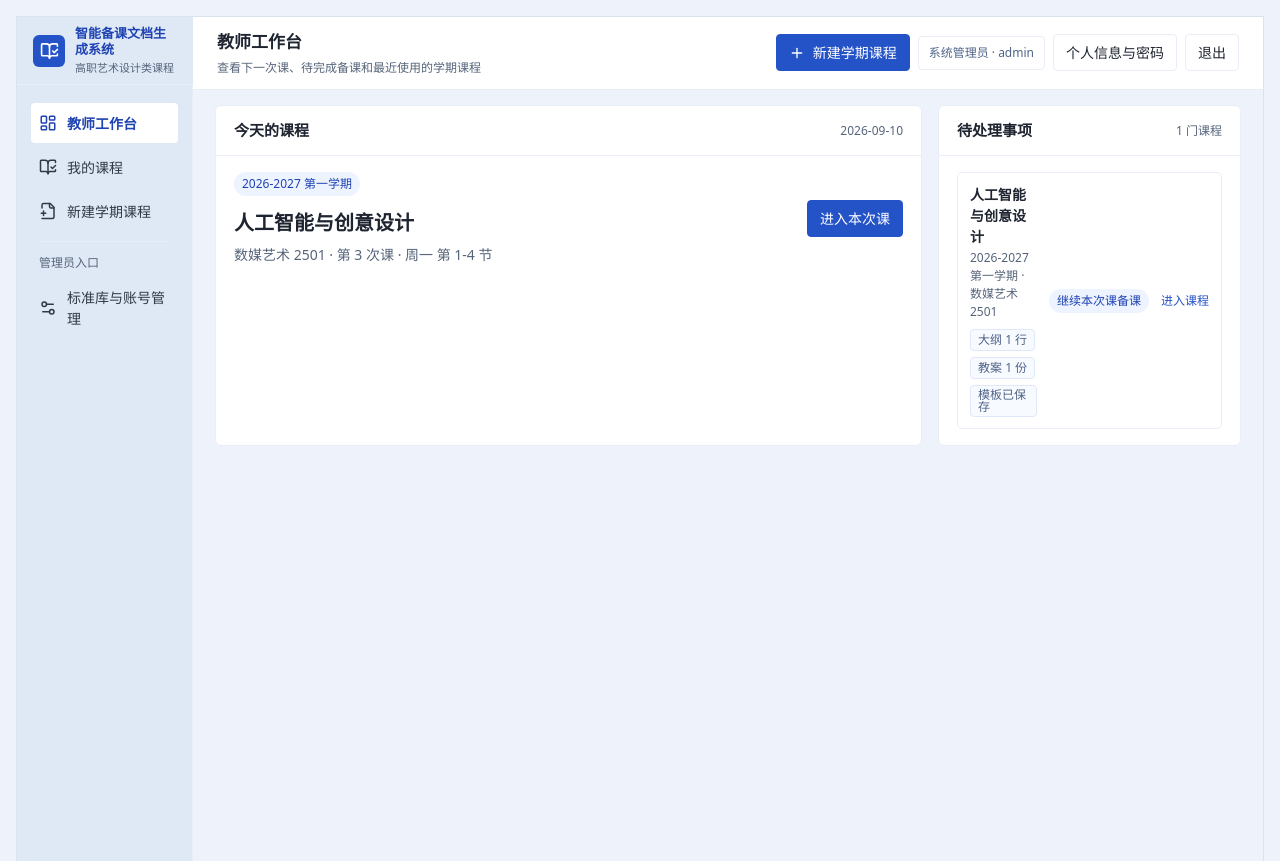
Test case: App › opens a dedicated course materials workspace
The width and height of the screenshot is (1280, 861).
Click the button "我的课程": (104, 167) top-left (31, 147), bottom-right (178, 187)
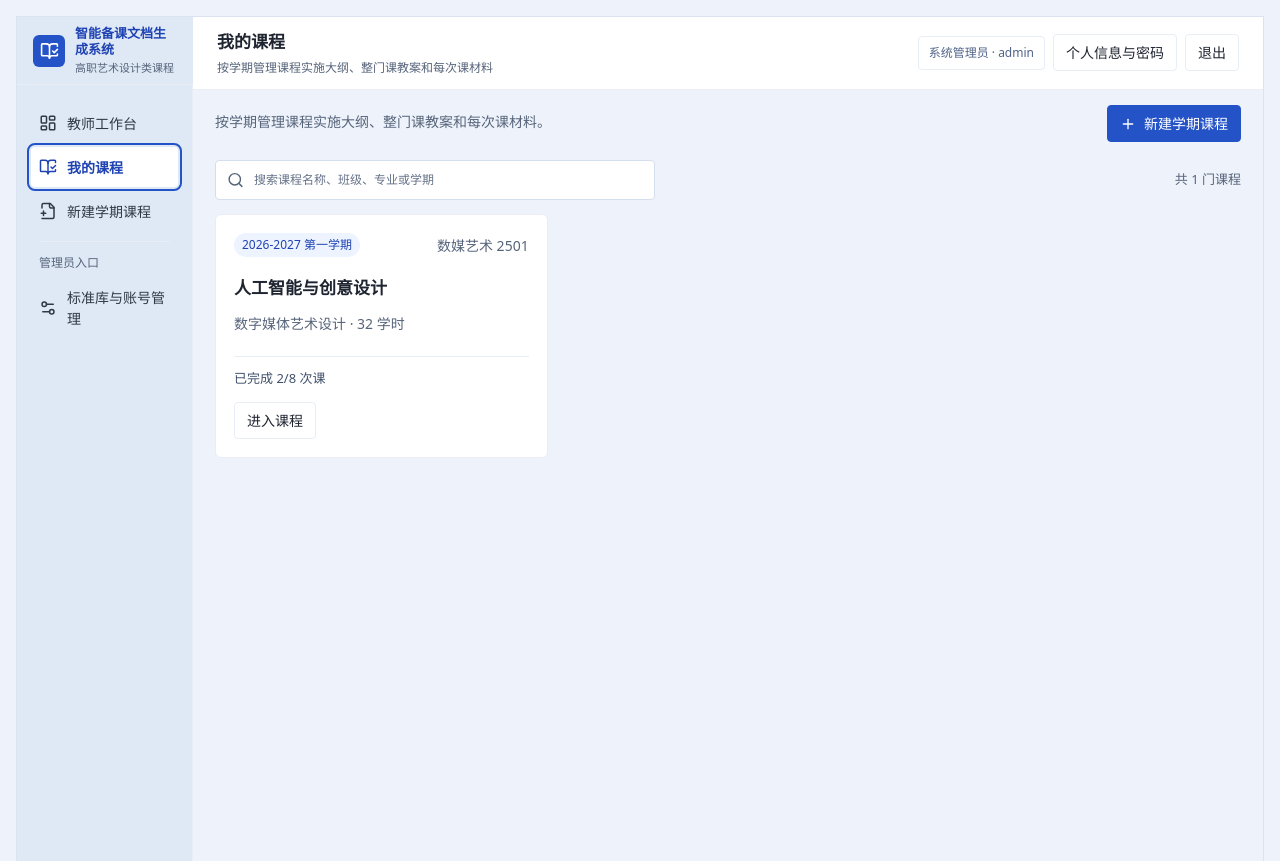
Click the button "进入课程": (275, 420) top-left (234, 402), bottom-right (316, 439)
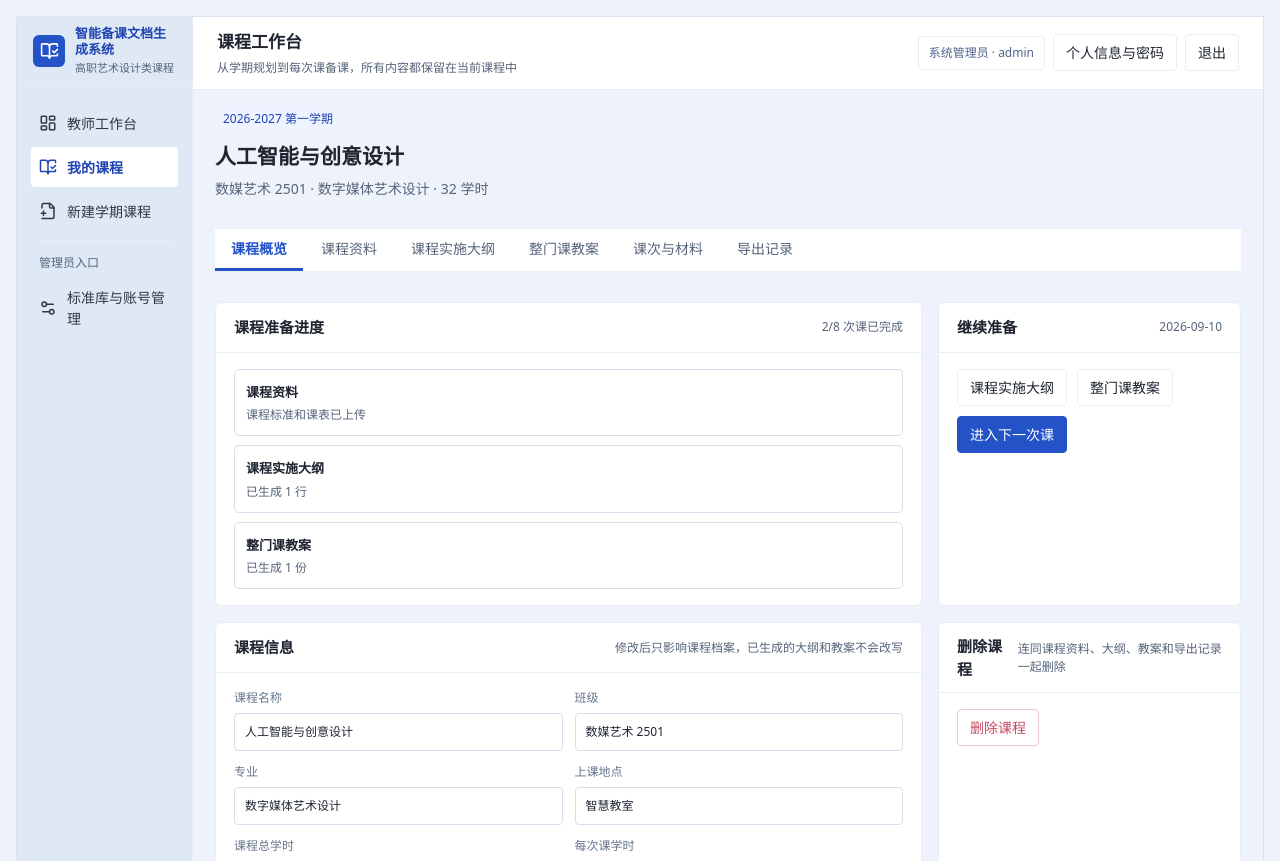
Click the tab "课程资料": (349, 250) top-left (305, 228), bottom-right (393, 270)
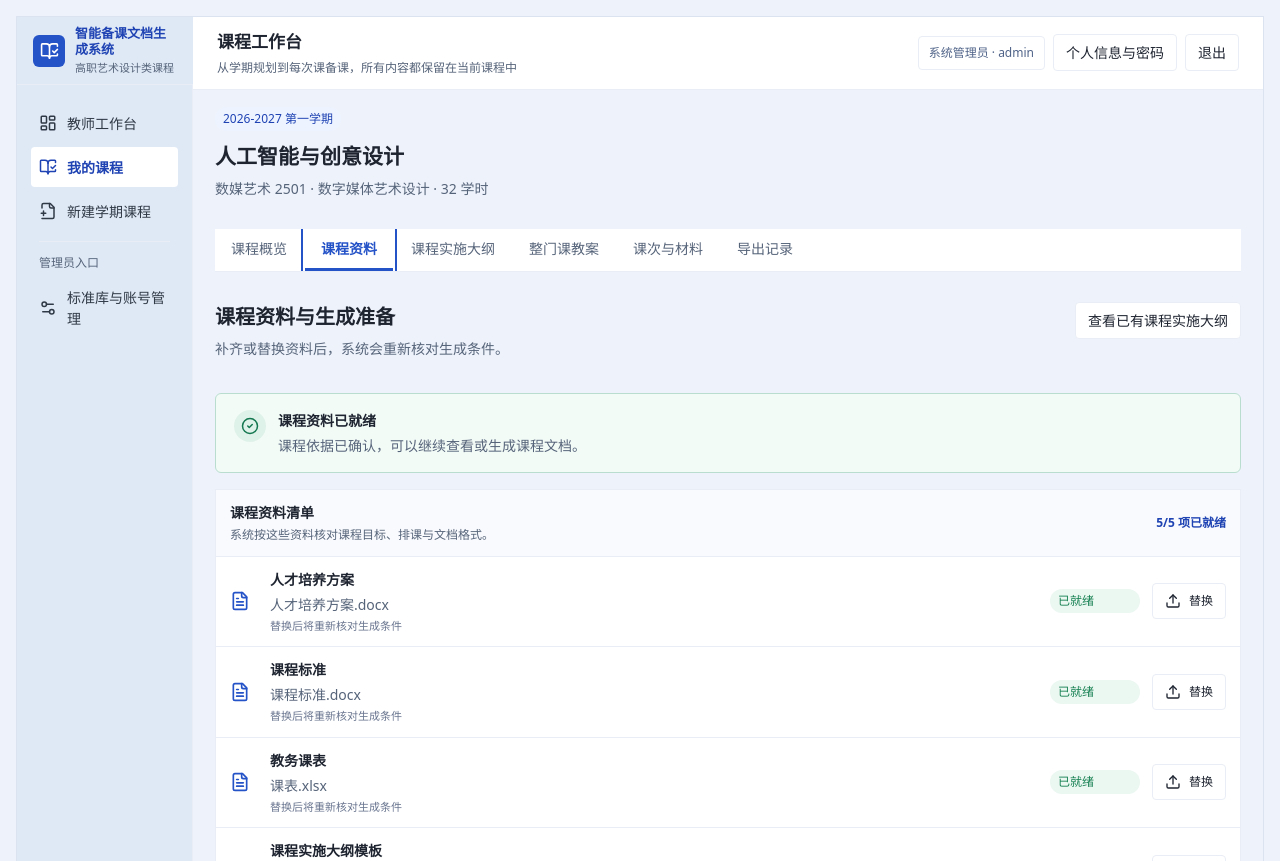
expect the heading "课程资料与生成准备" is shown: met, box top-left (215, 302), bottom-right (395, 330)
expect the text "课程标准.docx" is shown: met, box top-left (270, 685), bottom-right (361, 704)
